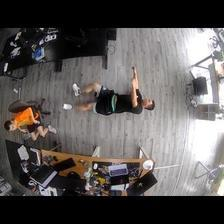fall: (62, 66, 155, 114)
normal: (5, 107, 55, 139)
